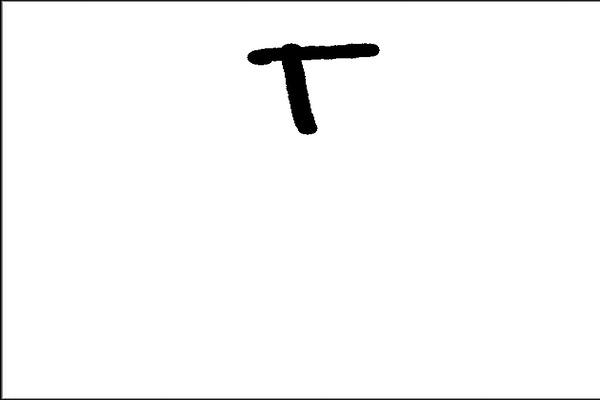T: (242, 33, 388, 137)
